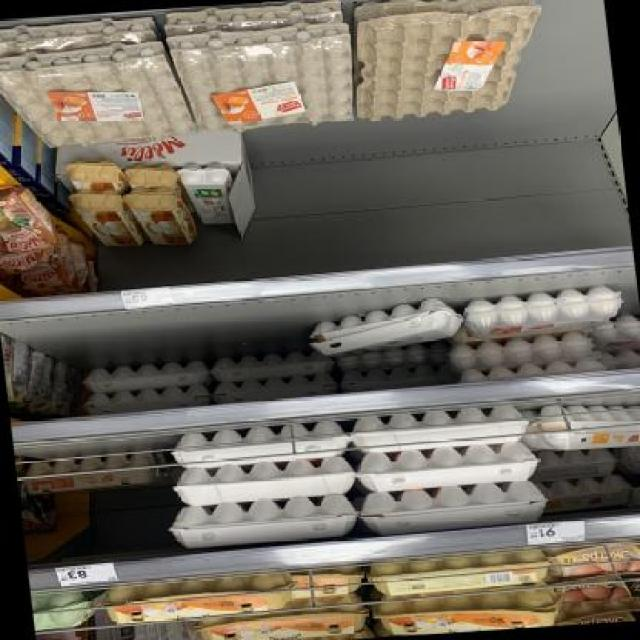Egg: (97, 569, 306, 626), (373, 583, 564, 637), (182, 594, 370, 640), (19, 447, 172, 498), (124, 185, 199, 250), (72, 186, 143, 254), (0, 182, 62, 256), (10, 231, 81, 294), (178, 161, 236, 227), (546, 539, 640, 578), (546, 569, 640, 605), (538, 594, 640, 626), (32, 591, 96, 634), (288, 566, 363, 600), (1, 330, 34, 404), (64, 158, 128, 191), (126, 163, 177, 188)
